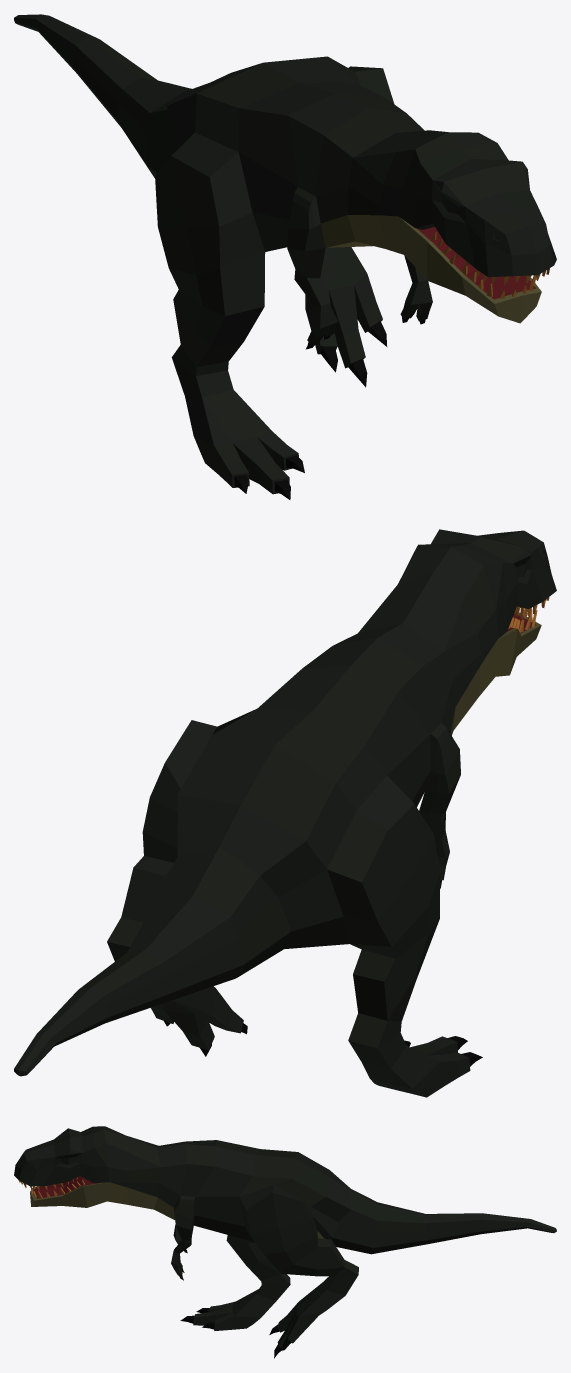
Rendered from Trex_000022.obj.
3 views of the same model, one above another, from view 1: azimuth 30°, elevation 25°; view 2: azimuth 150°, elevation 25°; view 3: azimuth 270°, elevation 25° (orthographic). The views are drawn at different scales.
Visible parts, largest first — view 1: Trex_Cylinder; view 2: Trex_Cylinder; view 3: Trex_Cylinder.
Boxes of the visible parts, x1,y1,x2,y2 form: Trex_Cylinder: (14,14,556,499); Trex_Cylinder: (14,529,556,1097); Trex_Cylinder: (14,1126,556,1358).
Size of the model in its own units: 7.95 by 13.71 by 31.26.
